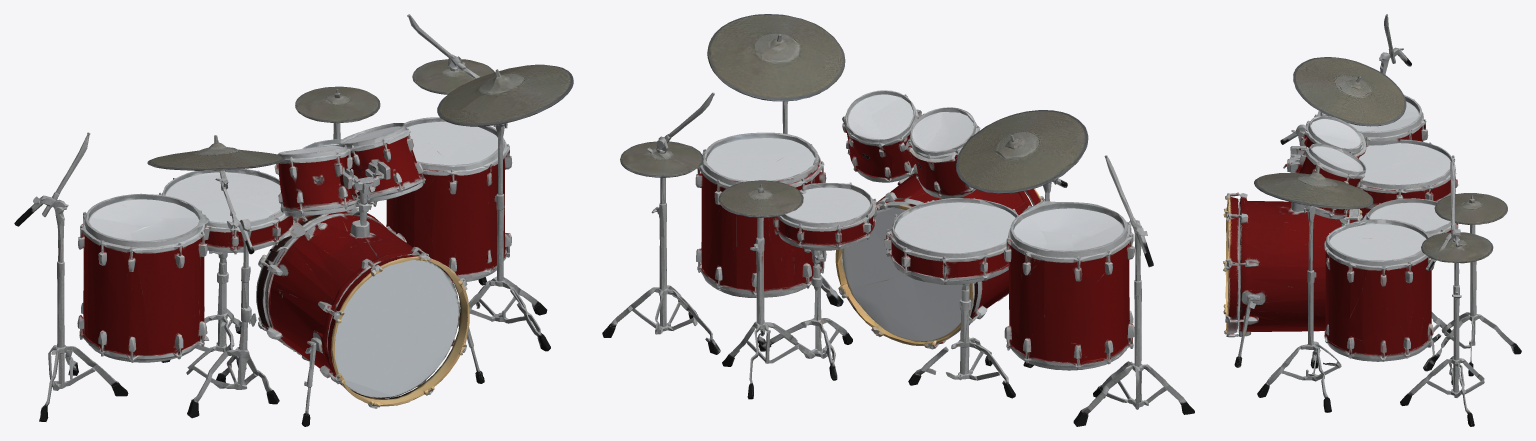
Rendered from Prop_Drum_Kit_01.glb.
The picture shows the model from 3 angles, left to right: view 1: azimuth 30°, elevation 25°; view 2: azimuth 150°, elevation 25°; view 3: azimuth 270°, elevation 25°; orthographic projection. The views are drawn at different scales.
Bounding box in the file's own units: 1.9 × 0.9143 × 1.09.
1 material, 1 textured.
